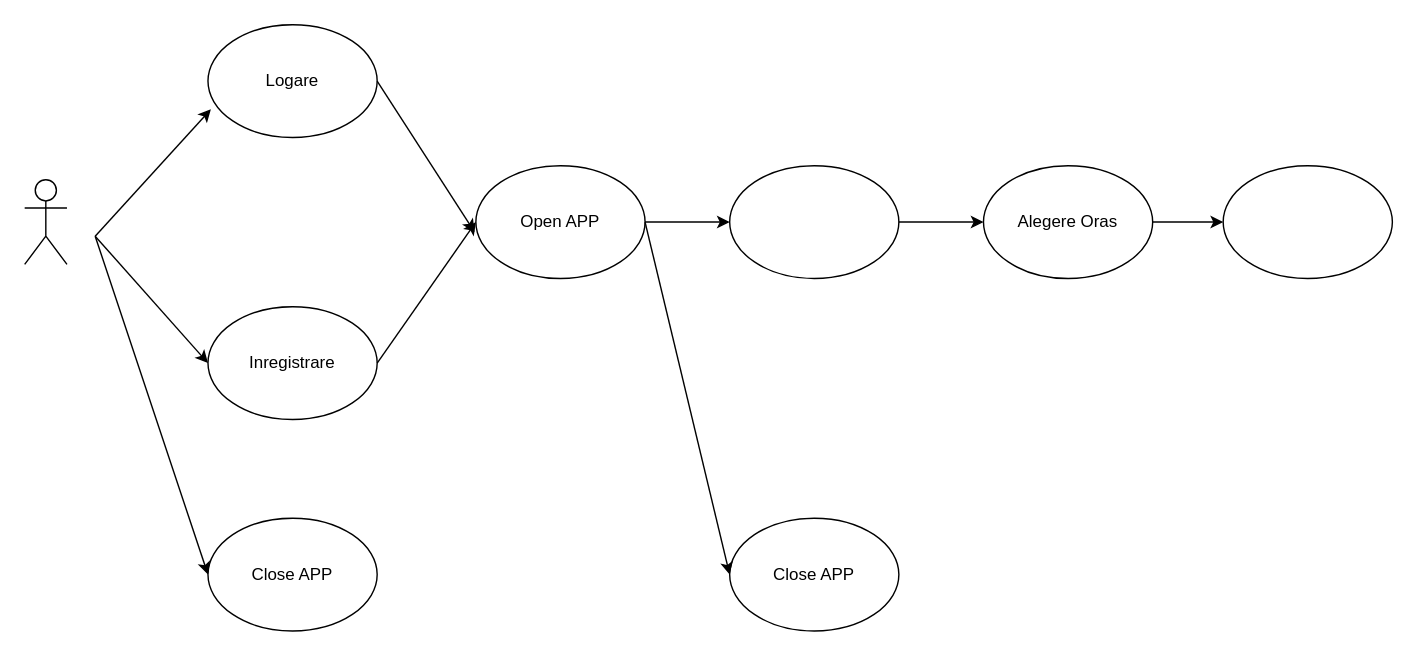
Some shapes in this 1417 by 656 pixel diagram are drawn without their labels. The centre of each missing label's shape, as x and y in pixels:
Actor: [45,221]
Alegere Tara: [813,221]
Primeste Detalii despre vreme: [1307,221]
